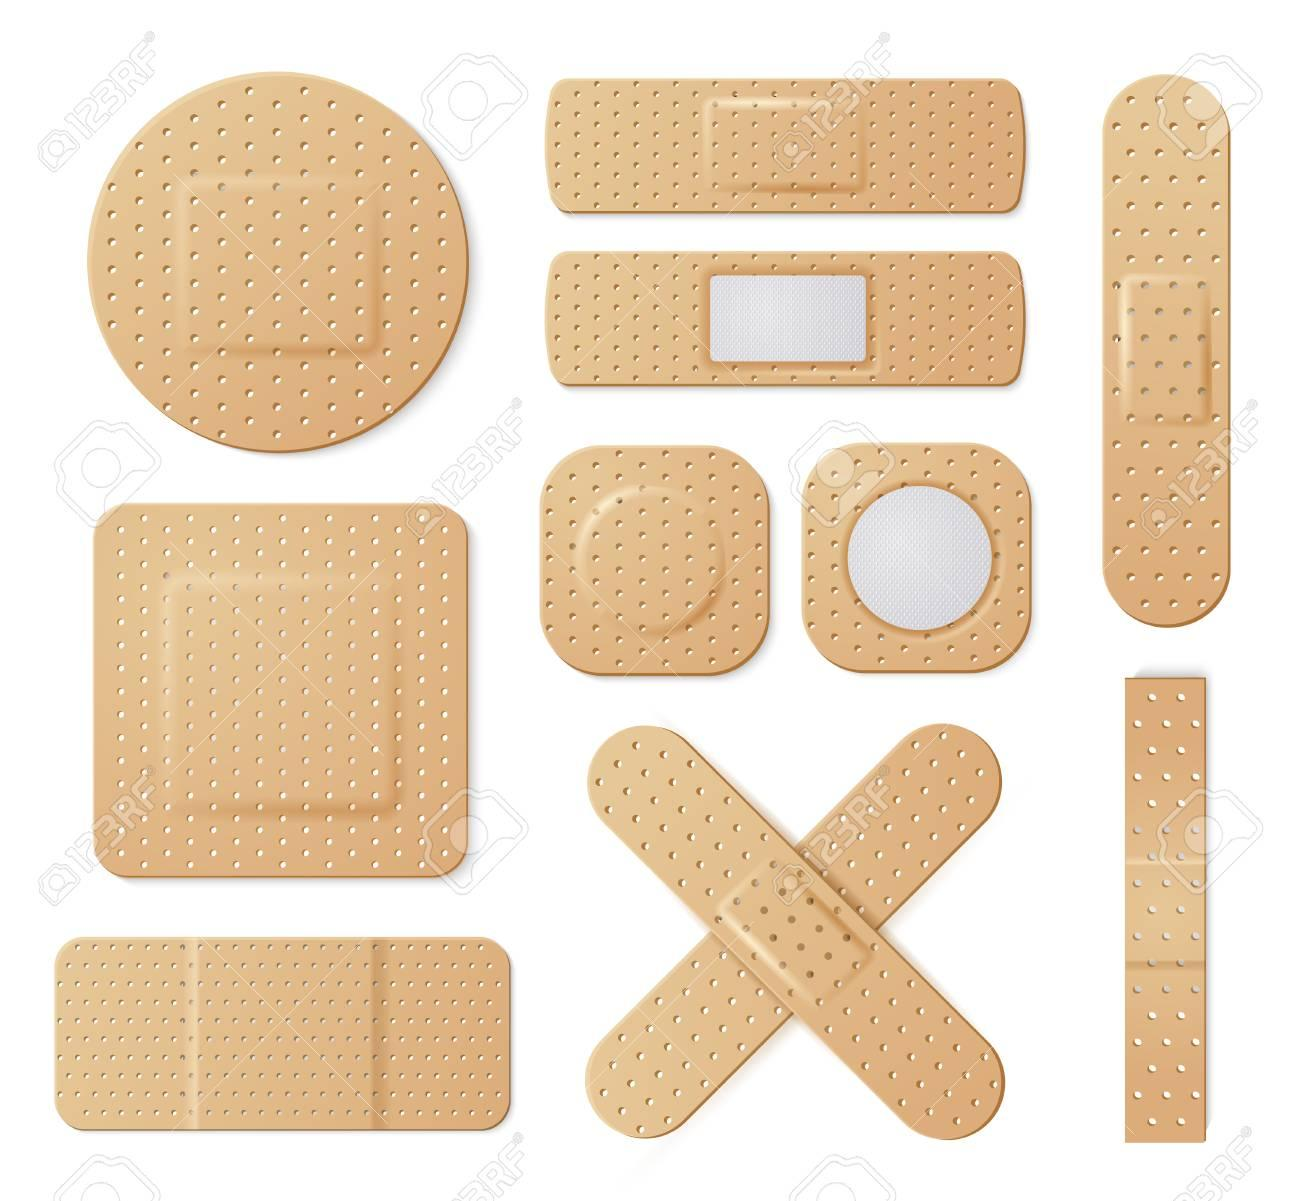bandage: (544, 718, 1044, 1164), (80, 494, 496, 887), (58, 82, 474, 446), (50, 924, 522, 1138), (536, 242, 1054, 402), (1096, 68, 1238, 632), (542, 78, 1038, 220), (525, 441, 778, 678), (798, 440, 1052, 676), (1110, 668, 1218, 1160)
